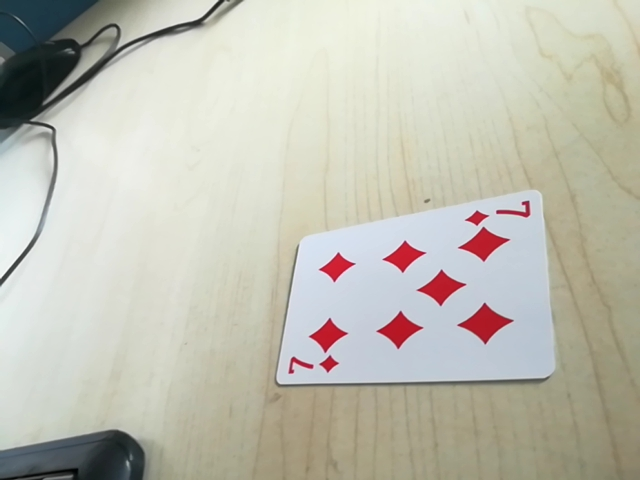fk 7: (463, 198, 537, 229), (281, 352, 345, 381)
